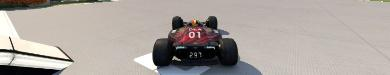Car: (151, 15, 238, 66)
Solid White and black: (0, 7, 74, 73)
